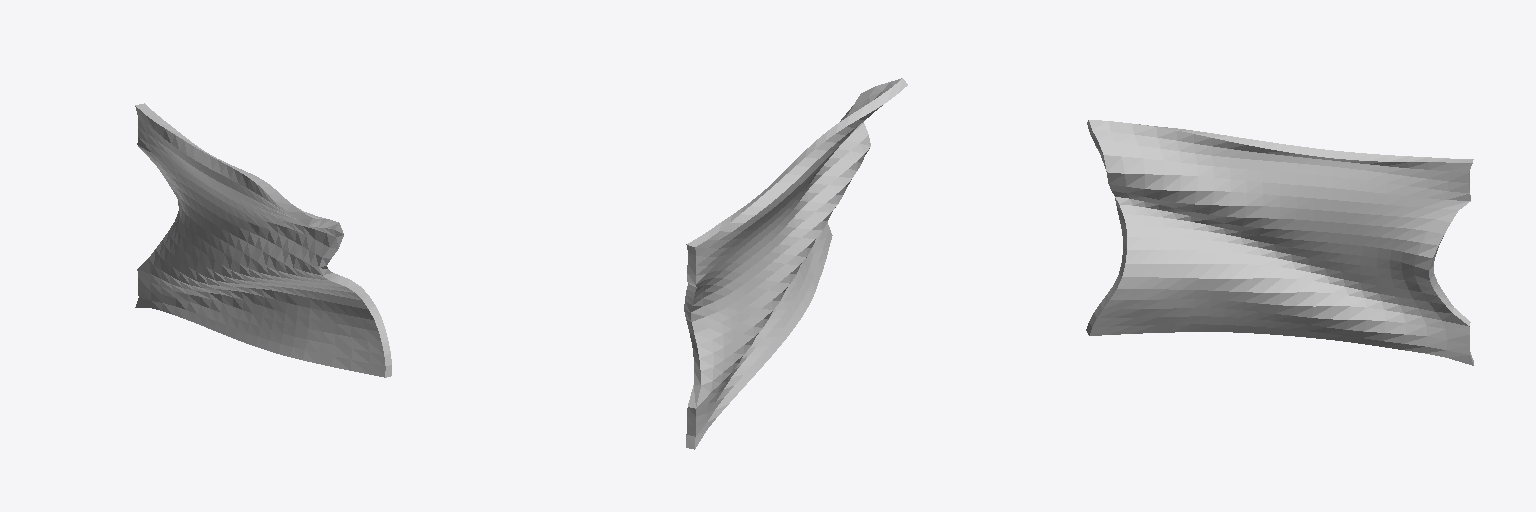
File: bandera_negra1.obj
3 views of the same model, side by side, from view 1: azimuth 30°, elevation 25°; view 2: azimuth 150°, elevation 25°; view 3: azimuth 270°, elevation 25° (orthographic).
Visible parts, largest first — view 1: polySurface1143polySurface1025polySurface1391; view 2: polySurface1143polySurface1025polySurface1391; view 3: polySurface1143polySurface1025polySurface1391.
Boxes of the visible parts, x1=… form: polySurface1143polySurface1025polySurface1391: x1=135, y1=103, x2=391, y2=377; polySurface1143polySurface1025polySurface1391: x1=684, y1=78, x2=907, y2=449; polySurface1143polySurface1025polySurface1391: x1=1086, y1=120, x2=1473, y2=365.
Bounding box in the file's own units: 1.08 × 2.72 × 4.07.